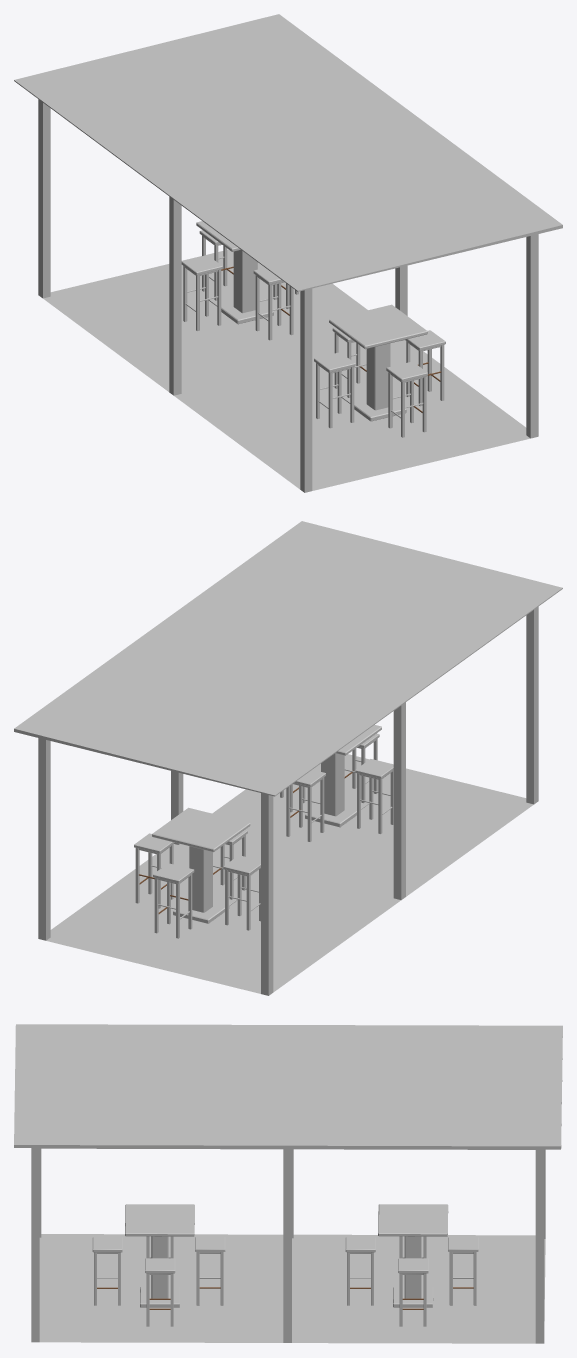
File: Tables.fbx
3 views of the same model, one above another, from view 1: azimuth 30°, elevation 25°; view 2: azimuth 150°, elevation 25°; view 3: azimuth 270°, elevation 25° (orthographic). The views are drawn at different scales.
Parts seen in each view (by area): view 1: Tables, Tables.001; view 2: Tables, Tables.001; view 3: Tables, Tables.001.
Boxes of the visible parts, left/top/right/bottom form: Tables: left=14, top=14, right=562, bottom=492; Tables.001: left=43, top=249, right=530, bottom=490; Tables: left=14, top=521, right=562, bottom=995; Tables.001: left=46, top=754, right=533, bottom=993; Tables: left=14, top=1024, right=562, bottom=1343; Tables.001: left=39, top=1234, right=545, bottom=1343.
Size of the model in its own units: 344 by 264 by 642.
